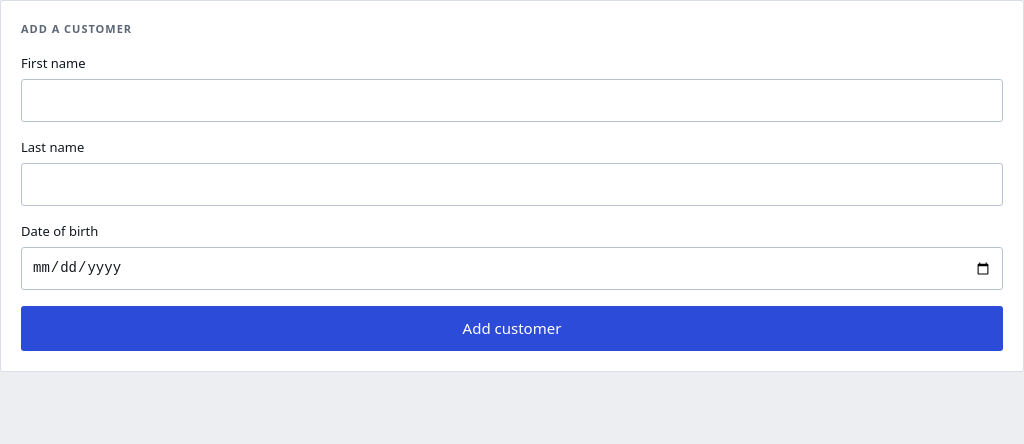
it: CustomerForm › sends the trimmed values and confirms the addition
In the field labelled "First name": (512, 100) [21,79,1003,122], type "Jane"
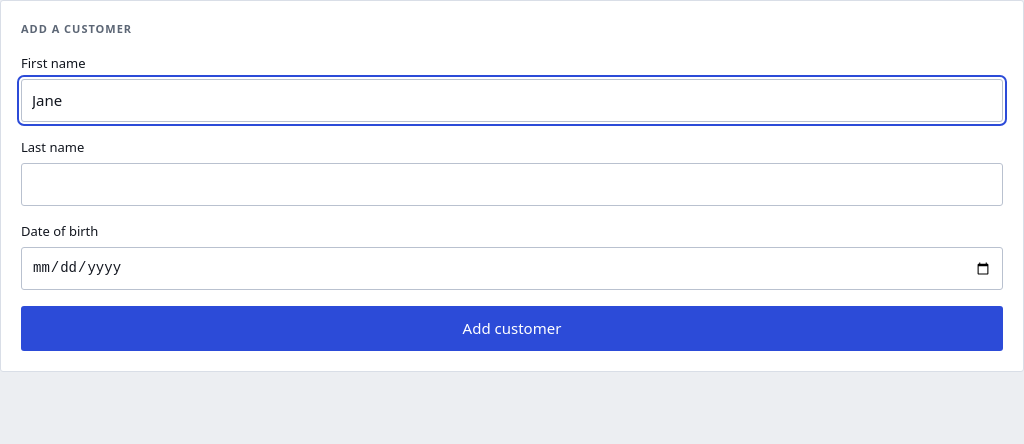
In the field labelled "Last name": (512, 184) [21,163,1003,206], type "Doe"
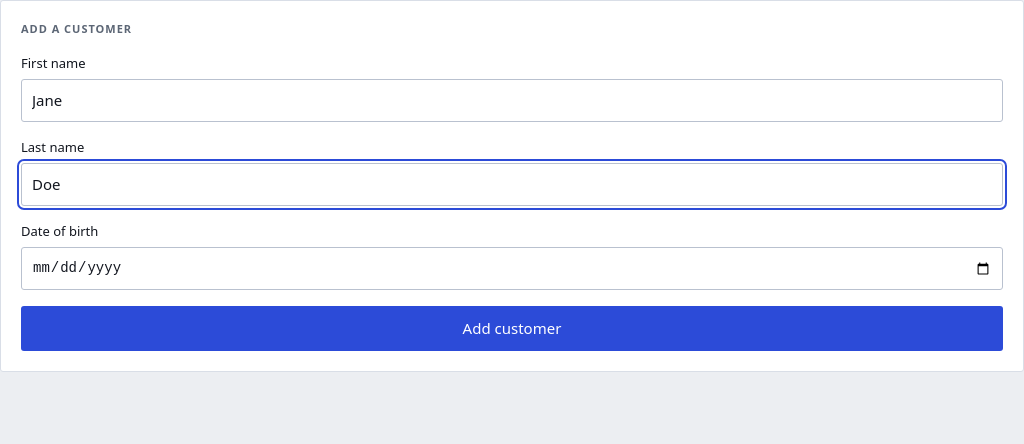
In the date field labelled "Date of birth": (512, 268) [21,247,1003,290], type "1990-04-17"
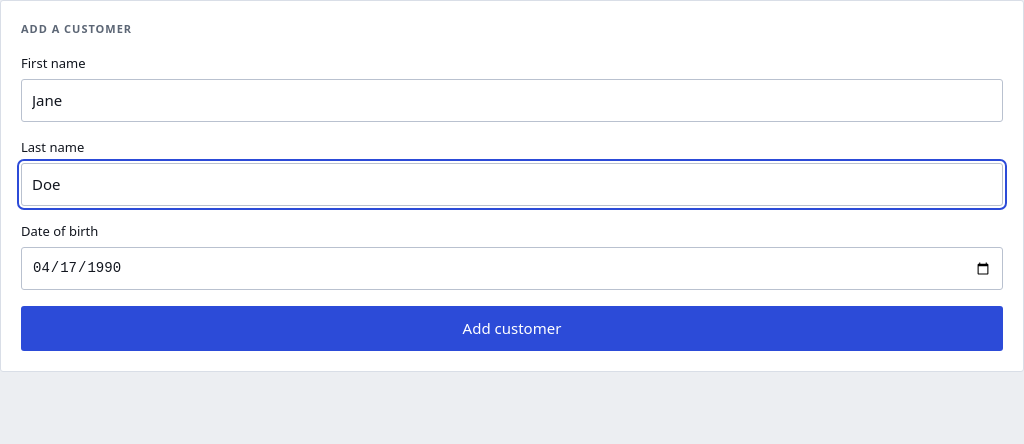
Click the button "Add customer": (512, 328) [21,306,1003,350]
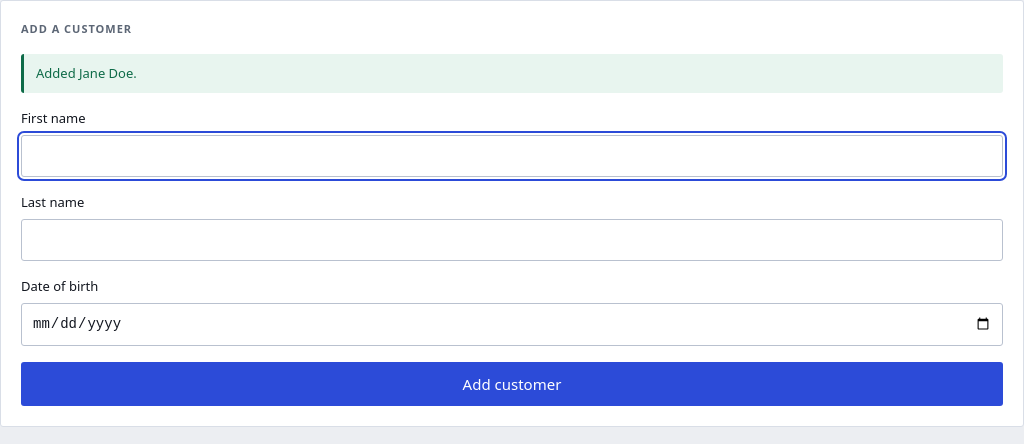
Check: the text "Added Jane Doe." is shown, box [21,54,1003,93]
